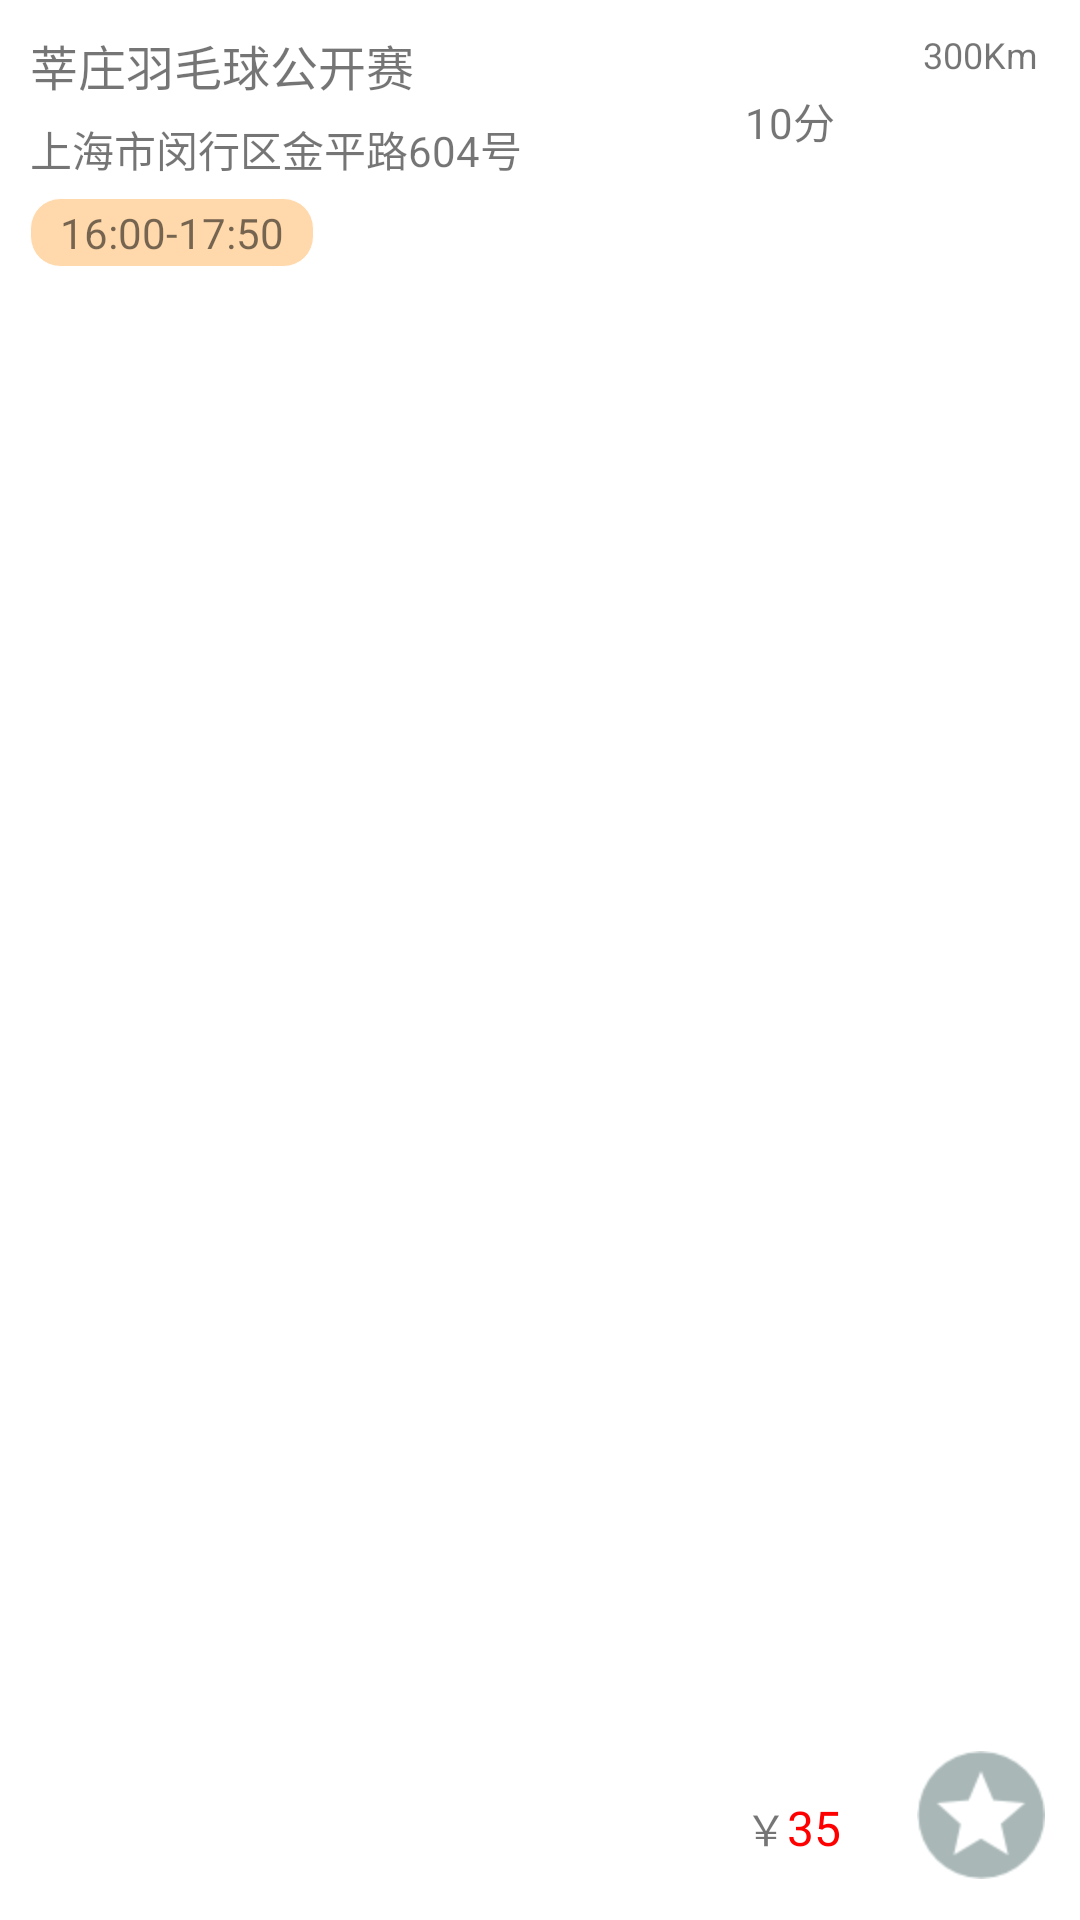

Where to tap for icons on this 1080 × 1920 app screen, as (x=x, y=y):
collection: (x=981, y=1815)
